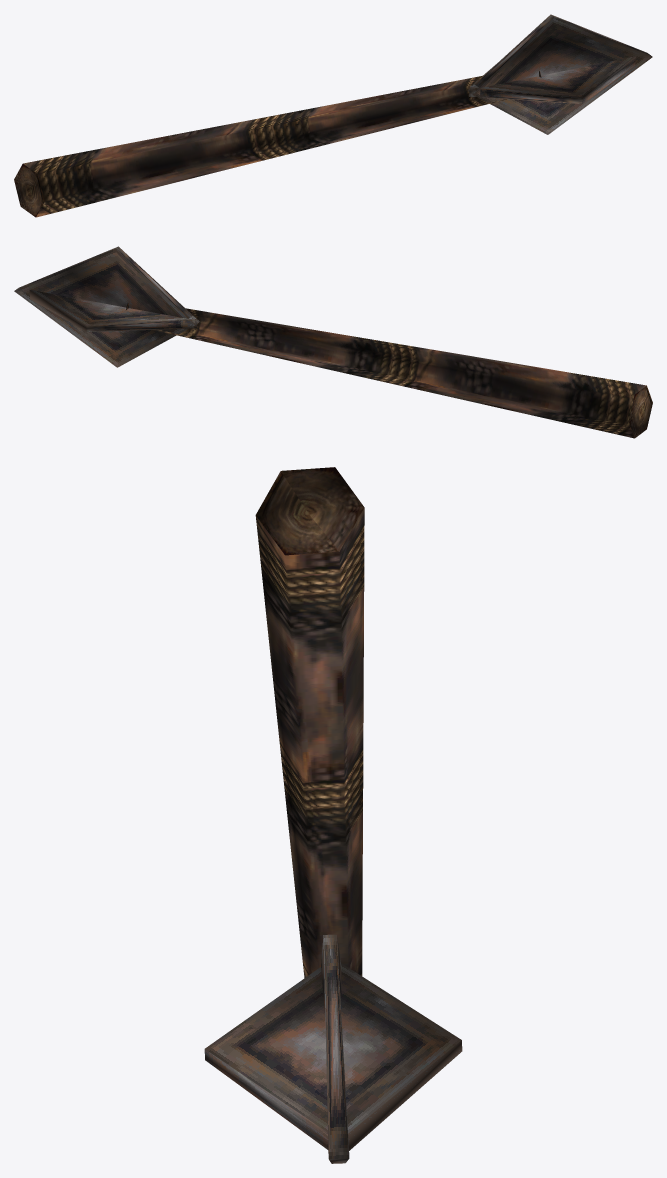
The model's file is ballistamissle01.obj.
3 views of the same model, one above another, from view 1: azimuth 30°, elevation 25°; view 2: azimuth 150°, elevation 25°; view 3: azimuth 270°, elevation 25° (orthographic). The views are drawn at different scales.
Visible parts, largest first — view 1: BALLISTAMISSLE010, BALLISTAMISSLE012, BALLISTAMISSLE011; view 2: BALLISTAMISSLE010, BALLISTAMISSLE012, BALLISTAMISSLE011; view 3: BALLISTAMISSLE010, BALLISTAMISSLE012, BALLISTAMISSLE011.
Boxes of the visible parts, bbox=[...] form: BALLISTAMISSLE010: bbox=[23, 71, 541, 217]; BALLISTAMISSLE012: bbox=[467, 14, 652, 134]; BALLISTAMISSLE011: bbox=[14, 164, 44, 217]; BALLISTAMISSLE010: bbox=[126, 303, 646, 438]; BALLISTAMISSLE012: bbox=[14, 246, 199, 367]; BALLISTAMISSLE011: bbox=[628, 385, 652, 438]; BALLISTAMISSLE010: bbox=[255, 508, 364, 977]; BALLISTAMISSLE012: bbox=[204, 934, 462, 1163]; BALLISTAMISSLE011: bbox=[256, 467, 364, 555].
Bounding box in the file's own units: 11.96 × 2.16 × 2.16.
3 materials, 3 textured.
